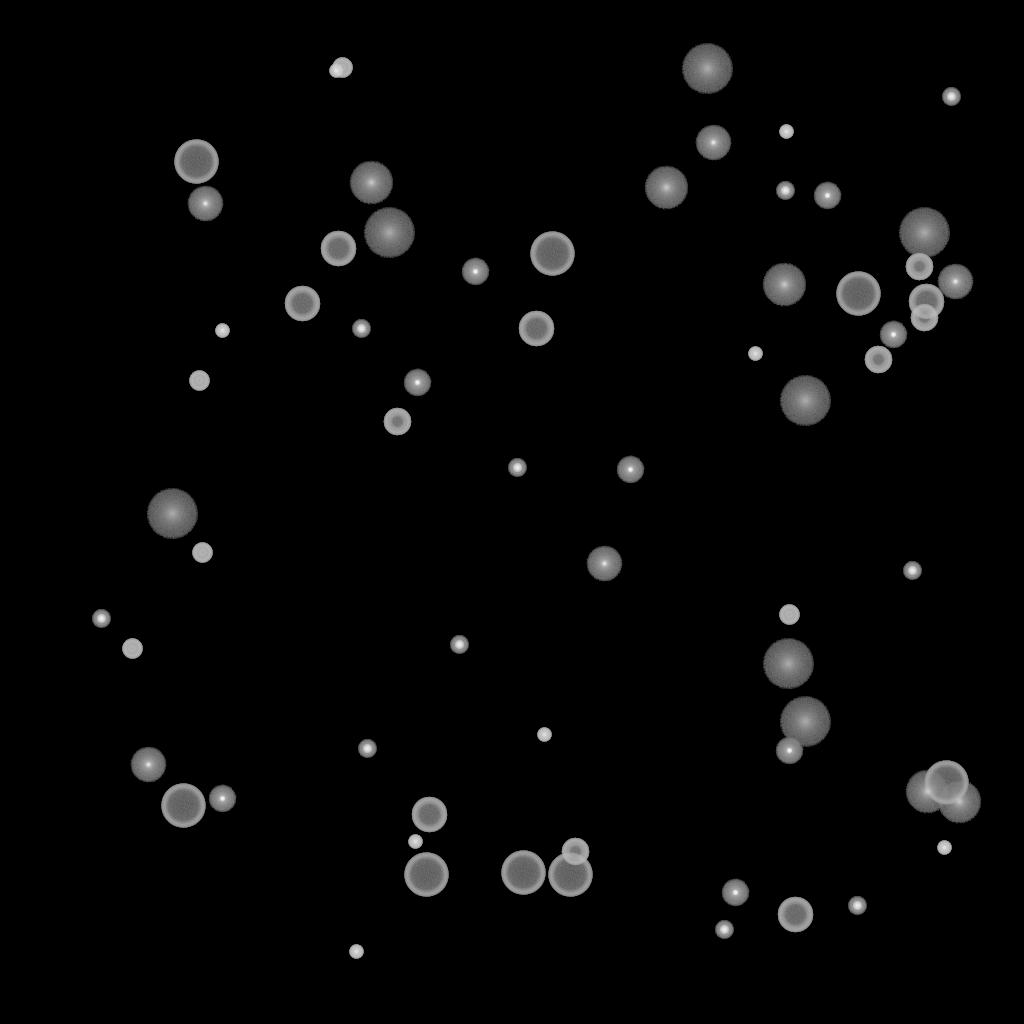depth:-10: (208, 785, 236, 813), (775, 737, 803, 765), (721, 879, 749, 907), (616, 456, 644, 484), (879, 321, 907, 349), (813, 182, 841, 210), (403, 369, 431, 397), (461, 258, 489, 286)
depth:-20: (903, 562, 921, 580), (848, 897, 866, 915), (715, 921, 733, 939), (776, 182, 794, 200), (352, 320, 370, 338), (508, 459, 526, 477), (92, 610, 110, 628), (450, 636, 468, 654), (358, 740, 376, 758), (942, 88, 960, 106)
depth:-30: (329, 64, 343, 78), (537, 728, 551, 742), (748, 347, 762, 361), (215, 324, 229, 338), (937, 841, 951, 855), (408, 835, 422, 849), (349, 945, 363, 959), (779, 125, 793, 139)
depth:-40: (192, 543, 212, 563), (189, 371, 209, 391), (332, 58, 352, 78), (122, 639, 142, 659), (779, 605, 799, 625)
depth:-50: (383, 408, 411, 436), (910, 304, 938, 332), (905, 253, 933, 281), (864, 346, 892, 374), (561, 838, 589, 866)
depth:-60: (777, 897, 813, 933), (284, 286, 320, 322), (320, 231, 356, 267), (518, 311, 554, 347), (908, 284, 944, 320), (411, 797, 447, 833)
depth:-70: (174, 140, 218, 184), (161, 784, 205, 828), (501, 851, 545, 895), (530, 232, 574, 276), (924, 761, 968, 805), (836, 272, 880, 316), (404, 853, 448, 897), (548, 853, 592, 897)
depth:0: (187, 186, 223, 222), (695, 125, 731, 161), (586, 546, 622, 582), (937, 264, 973, 300), (130, 747, 166, 783)
depth:10: (349, 161, 393, 205), (905, 770, 949, 814), (937, 780, 981, 824), (644, 166, 688, 210), (762, 263, 806, 307)
depth:20: (779, 697, 831, 747), (898, 208, 950, 258), (681, 44, 733, 94), (363, 208, 415, 258), (762, 639, 814, 689), (146, 489, 198, 539), (779, 376, 831, 426)
